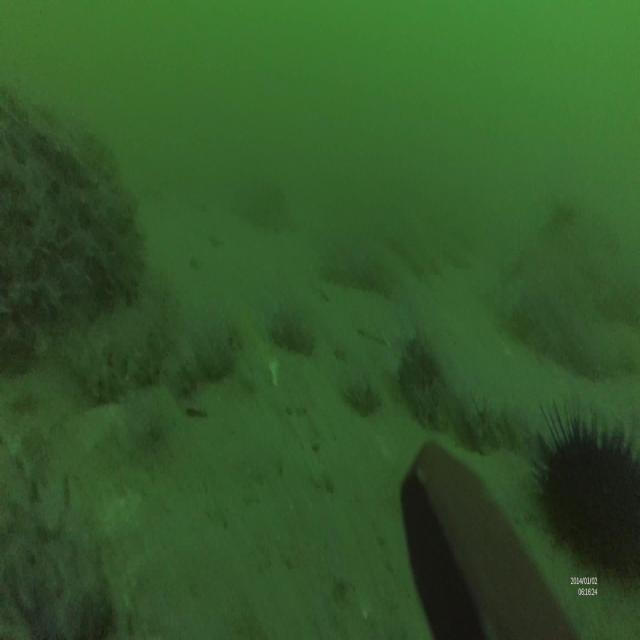echinus: (529, 394, 640, 588)
